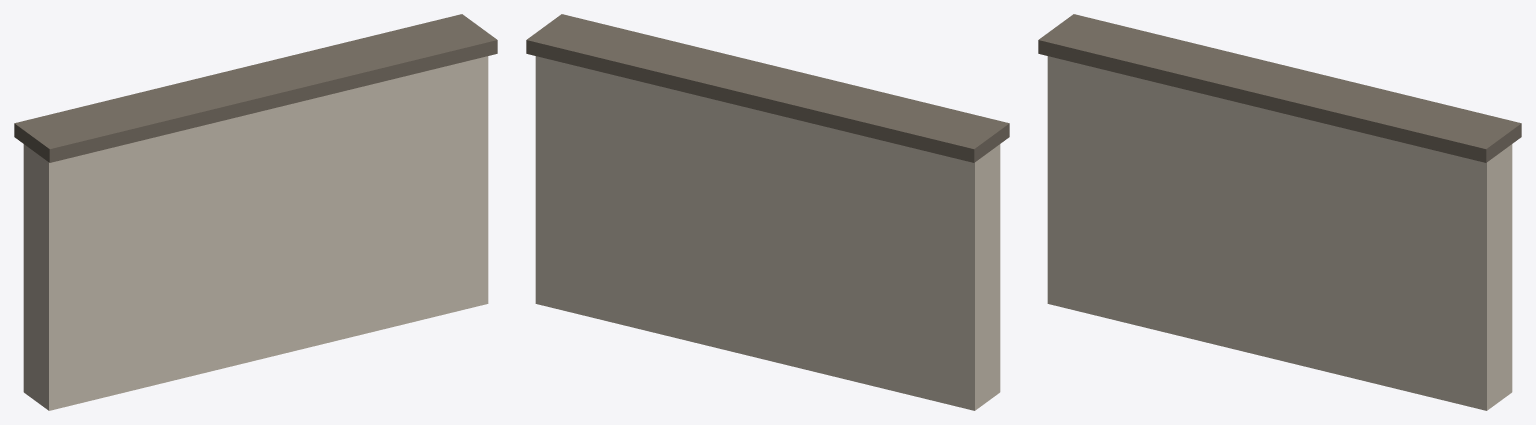
File: wall_plaster_low.glb
3 renders of one model, left to right at view 1: azimuth 30°, elevation 25°; view 2: azimuth 150°, elevation 25°; view 3: azimuth 330°, elevation 25°, orthographic.
Visible parts, largest first — view 1: wall_plaster_low; view 2: wall_plaster_low; view 3: wall_plaster_low.
Part boxes in pixels (x1=…): wall_plaster_low: x1=14, y1=14, x2=497, y2=410; wall_plaster_low: x1=526, y1=14, x2=1009, y2=410; wall_plaster_low: x1=1038, y1=14, x2=1521, y2=410.
Bounding box in the file's own units: 2.04 × 1.16 × 0.28.
